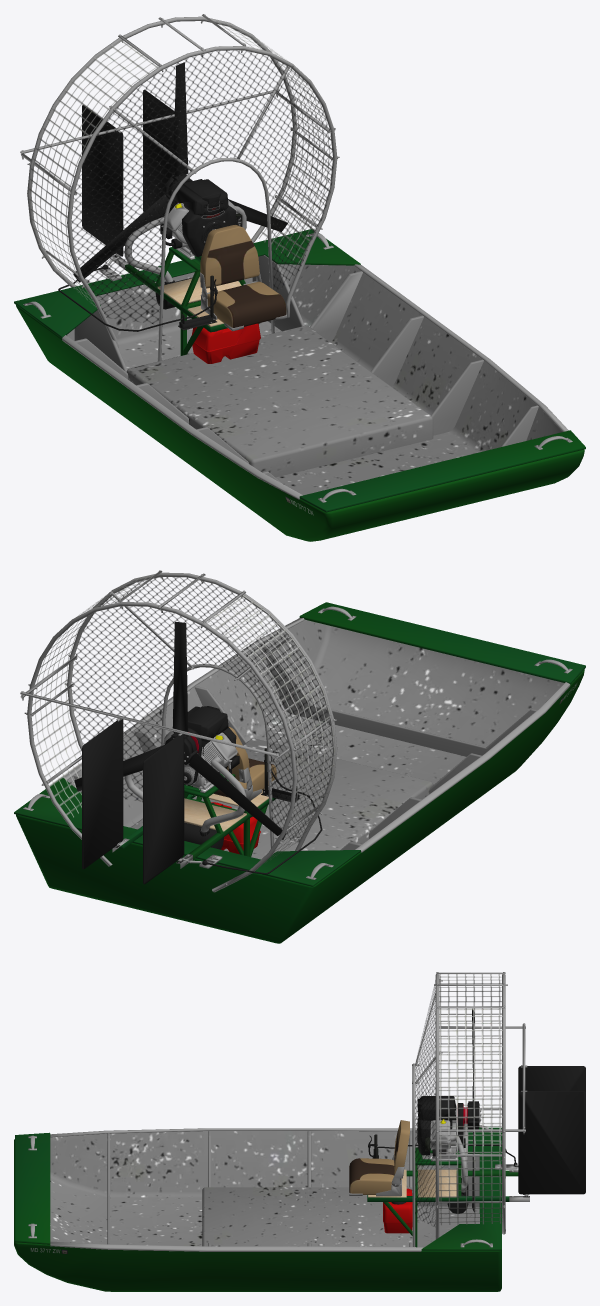
The model's file is m_lm-airboat.glb.
The picture shows the model from 3 angles, top to bottom: view 1: azimuth 30°, elevation 25°; view 2: azimuth 150°, elevation 25°; view 3: azimuth 270°, elevation 25°; orthographic projection. The views are drawn at different scales.
Parts seen in each view (by area): view 1: Object_2; view 2: Object_2; view 3: Object_2.
Boxes of the visible parts, x1,y1,x2,y2 form: Object_2: (14, 14, 585, 541); Object_2: (14, 570, 585, 943); Object_2: (14, 972, 585, 1291).
Bounding box in the file's own units: 1.79 × 1.79 × 3.55.
Materials: 2 (2 with a texture image).
